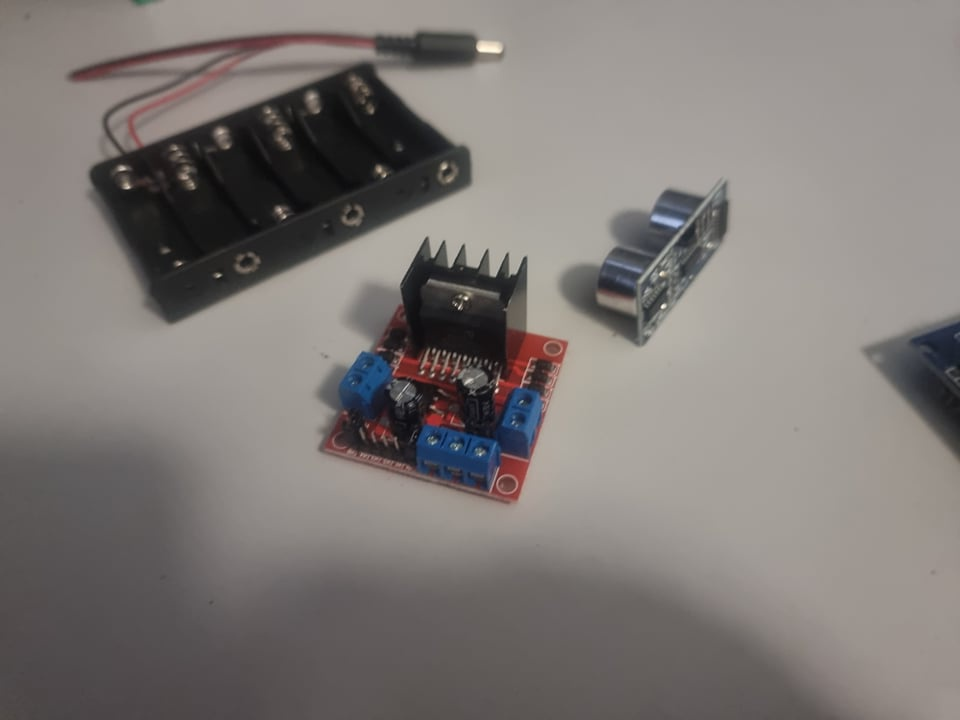BATTERY BOX: (88, 61, 471, 332)
MOTOR: (312, 237, 564, 508)
SENSOR: (594, 175, 732, 348)
